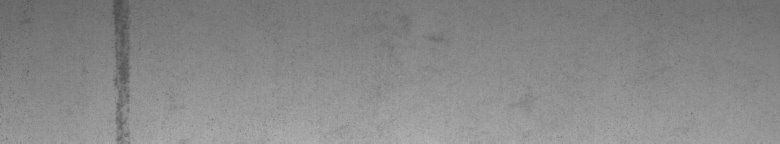hd: (103, 4, 135, 136)
